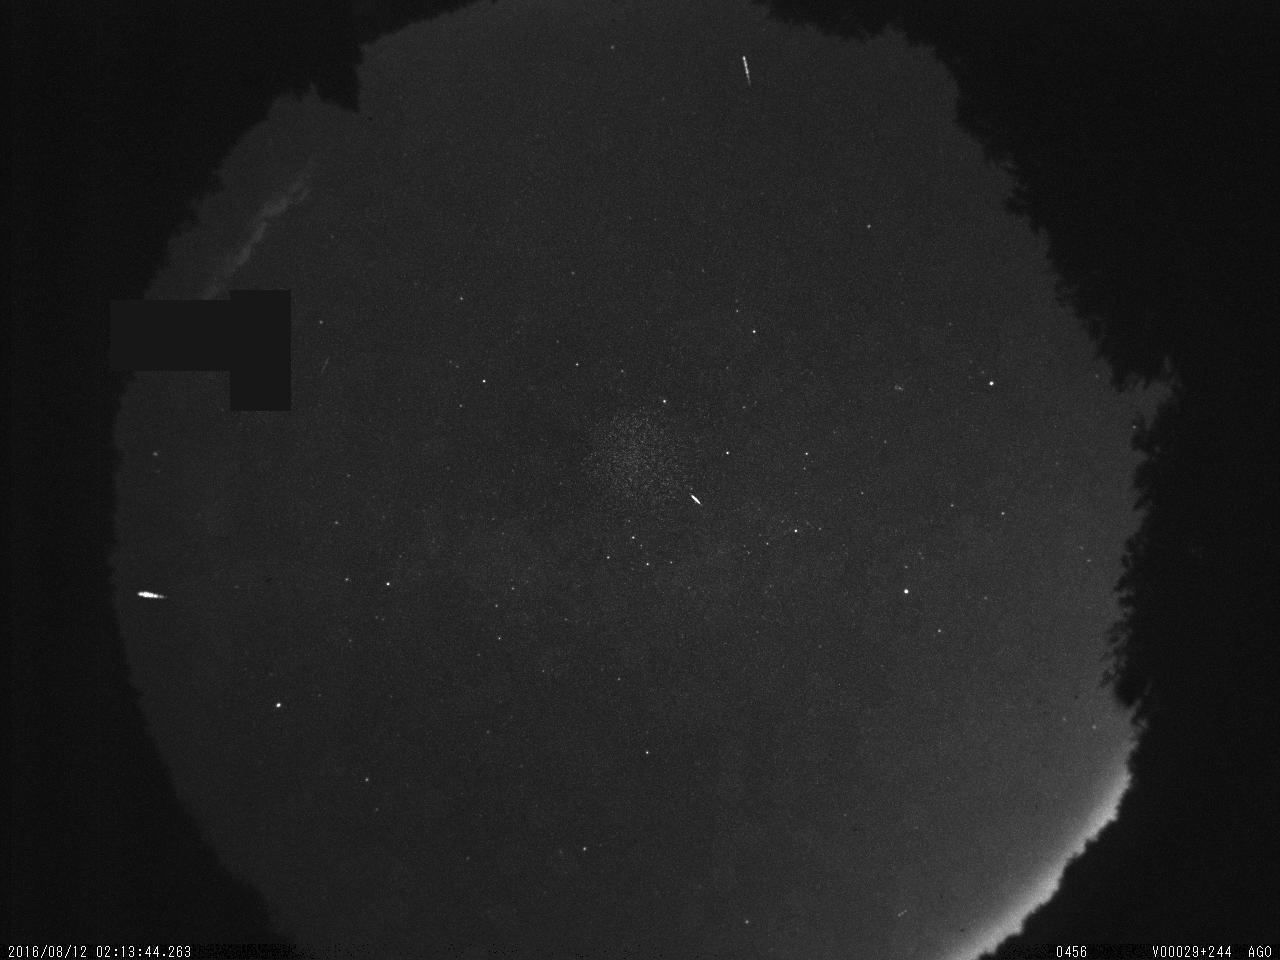meteor: (129, 589, 181, 605), (684, 490, 709, 511)
